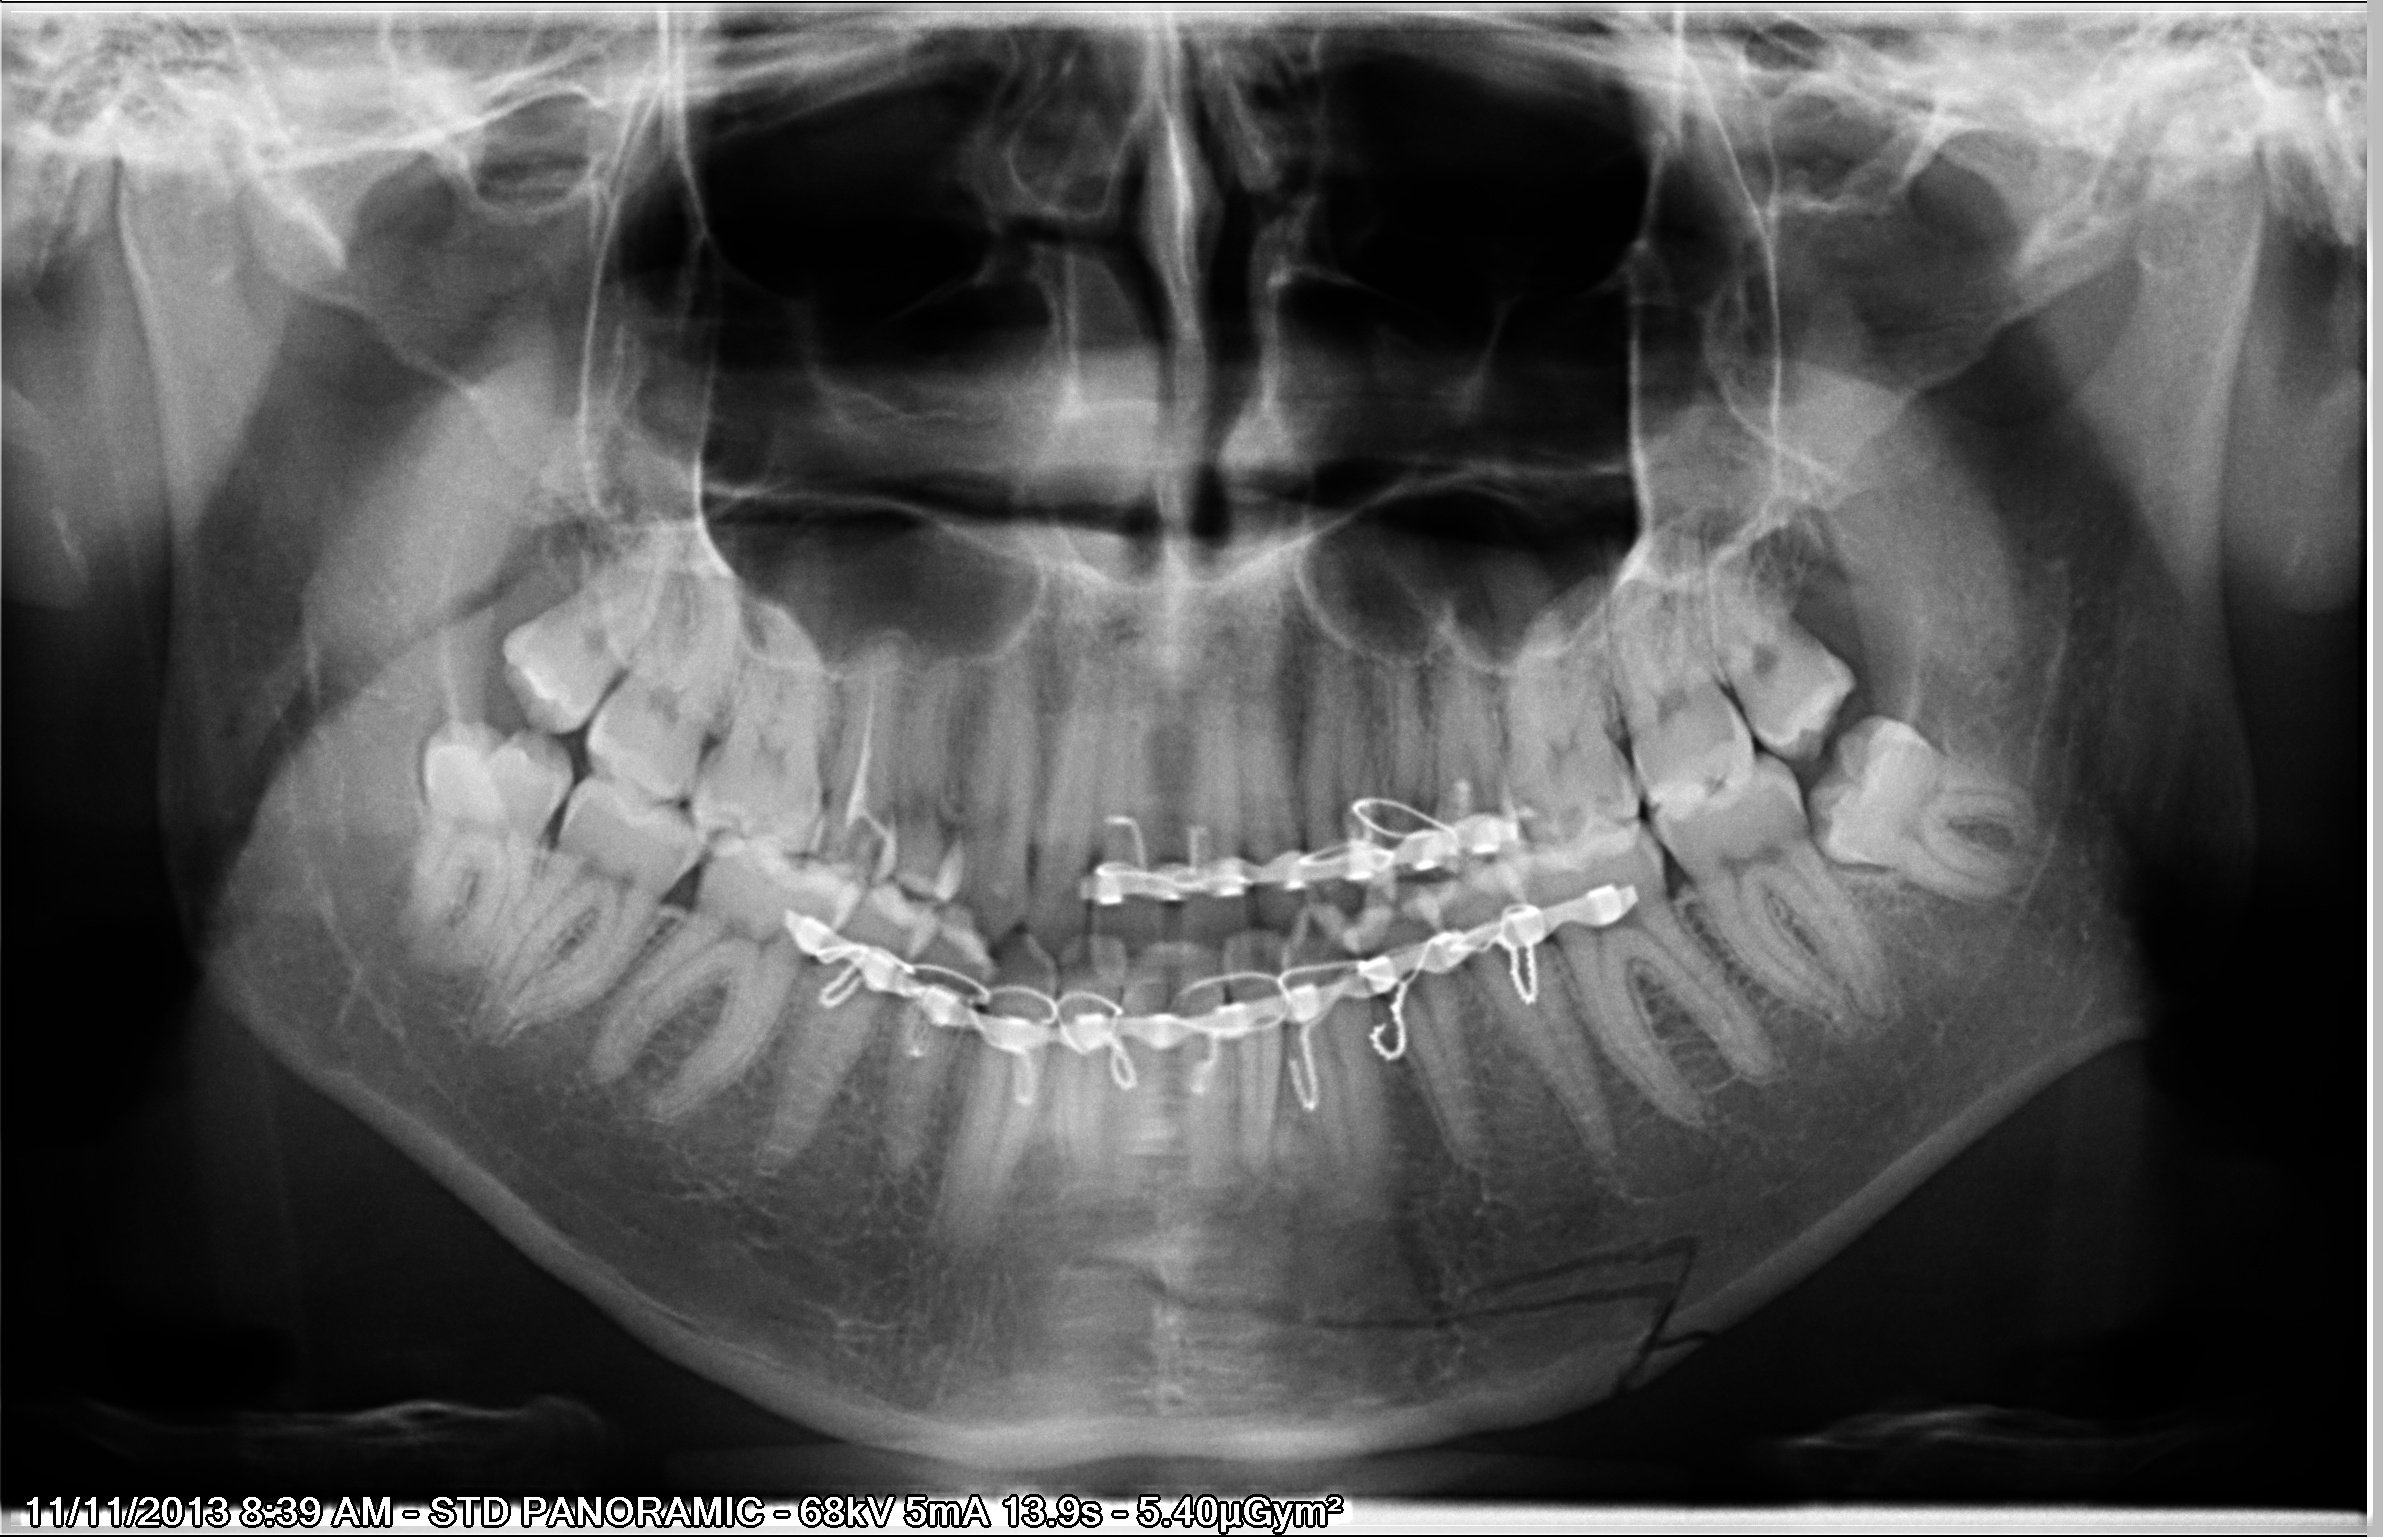END: (834, 656, 891, 813)
SRD: (960, 966, 1337, 1132), (1070, 778, 1537, 910), (1329, 863, 1638, 1059), (762, 901, 1000, 1059)
